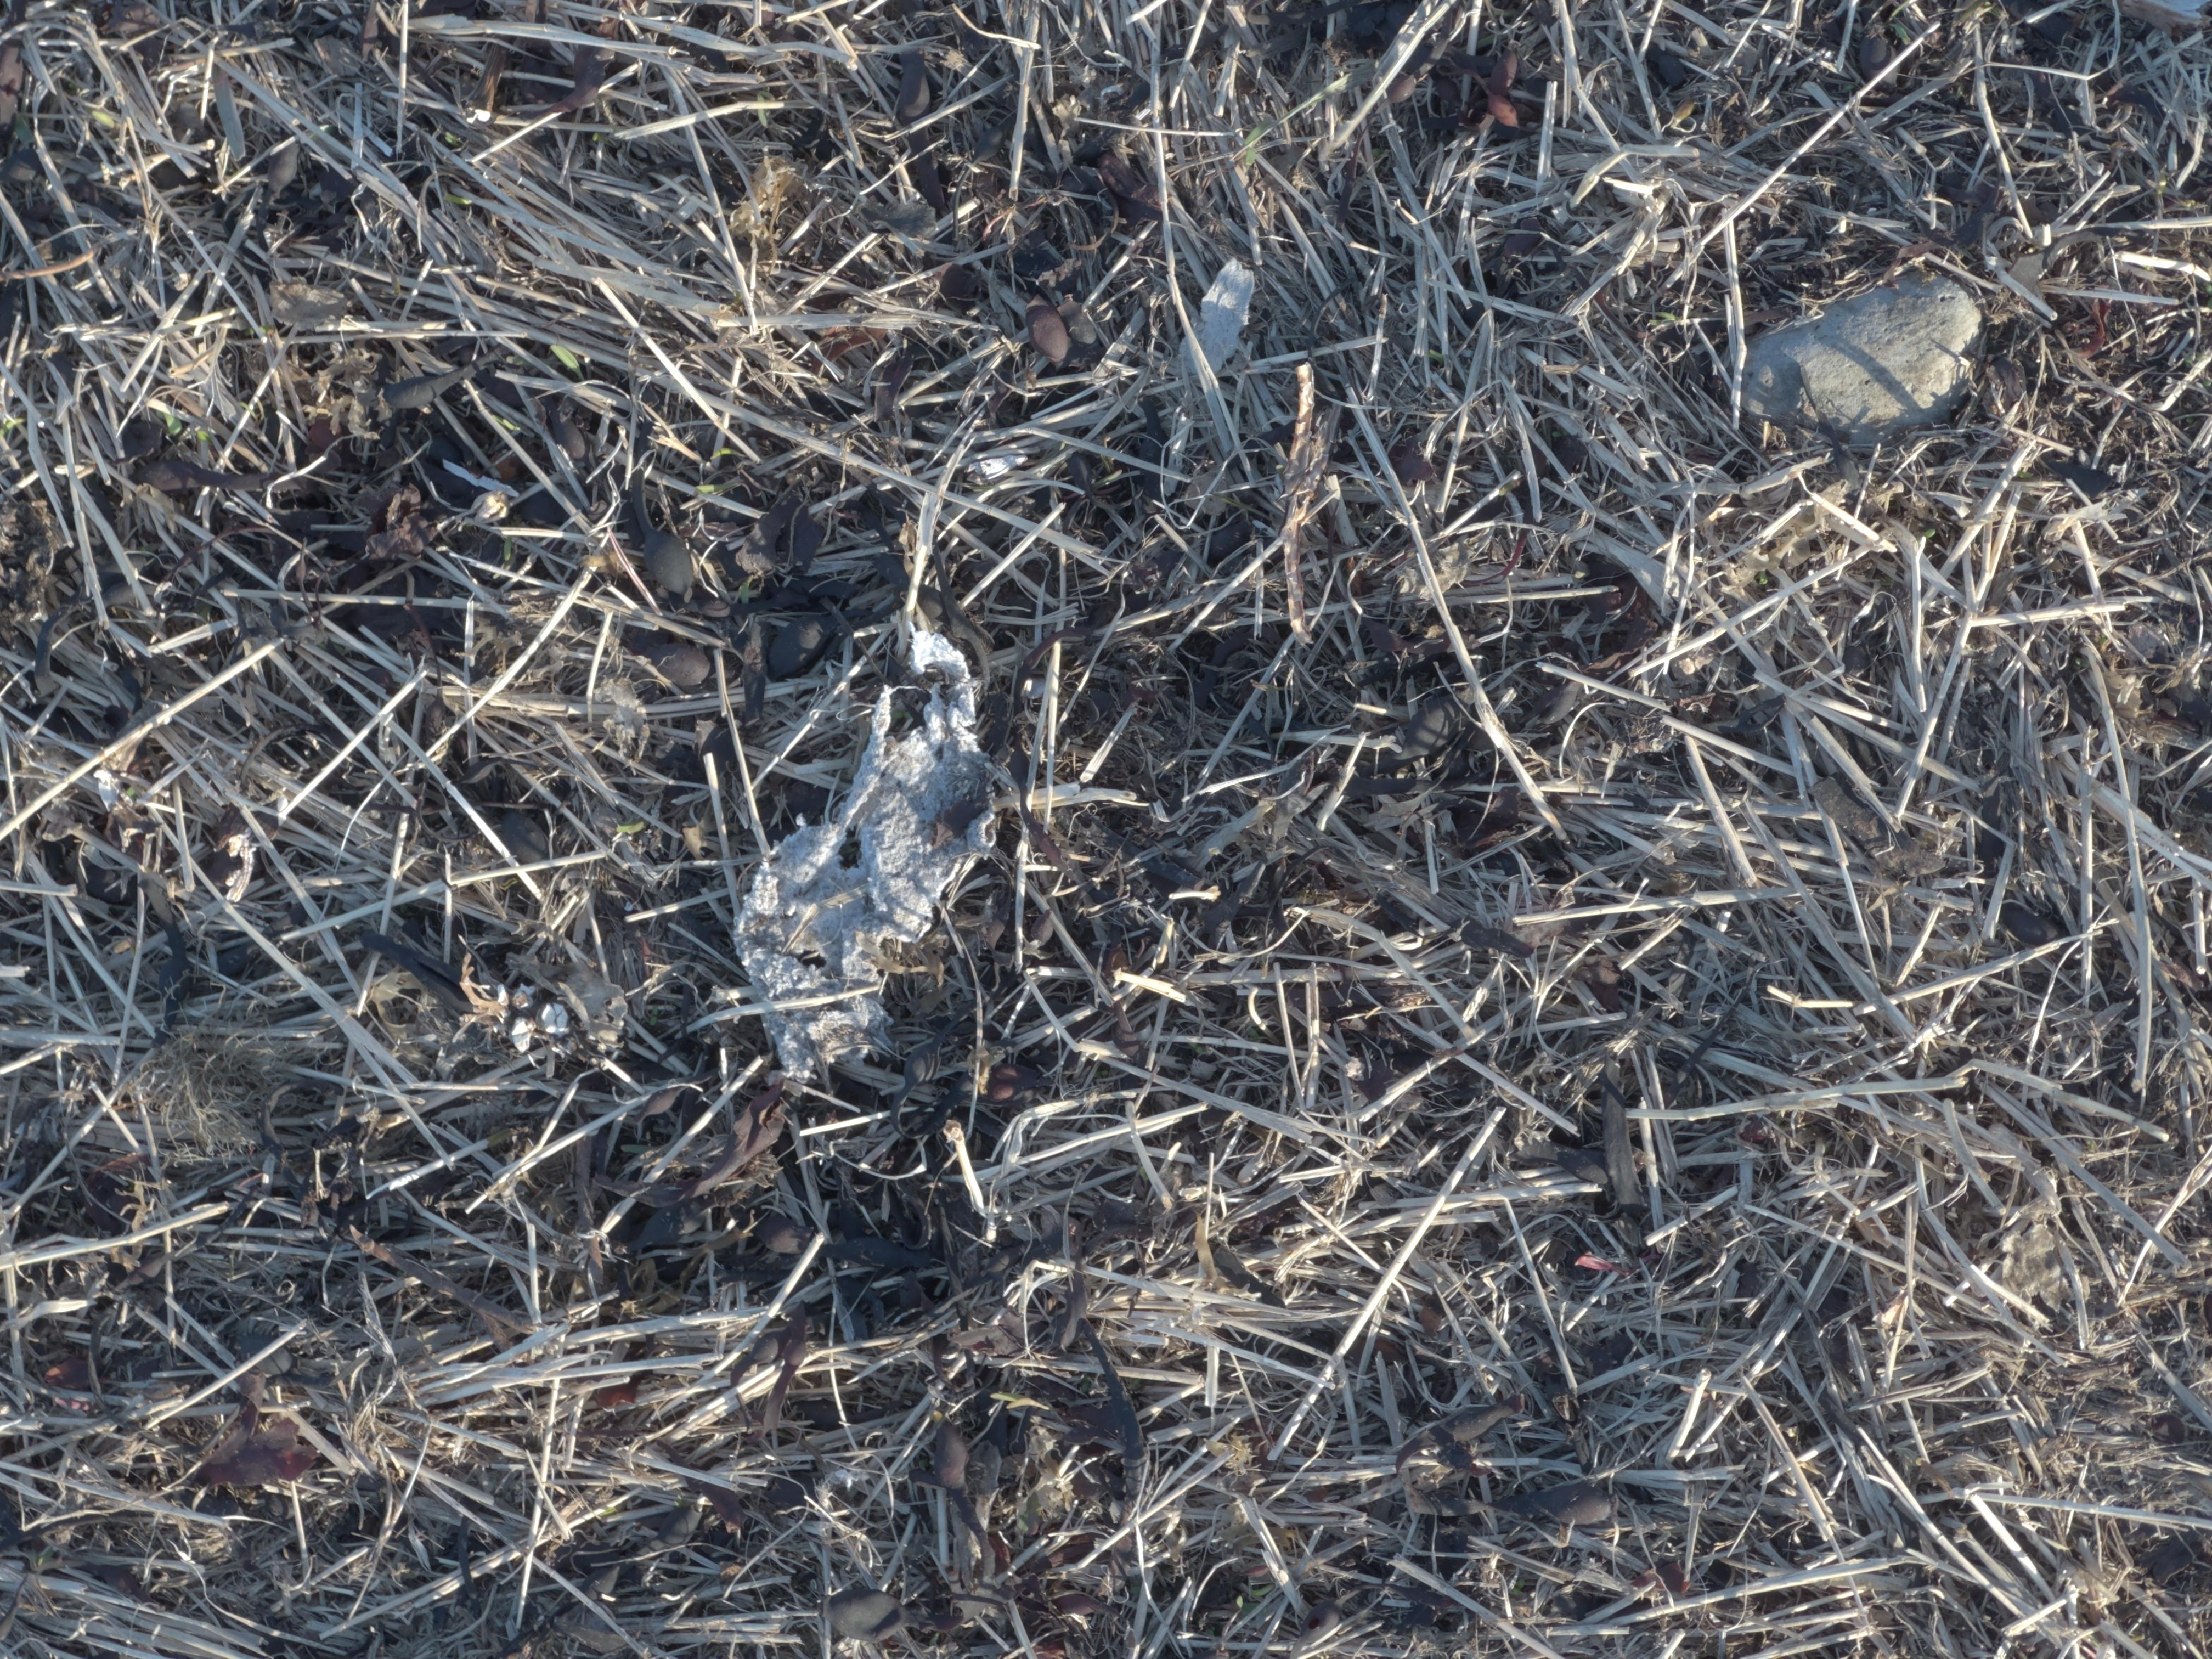trash: (735, 631, 1010, 1080)
